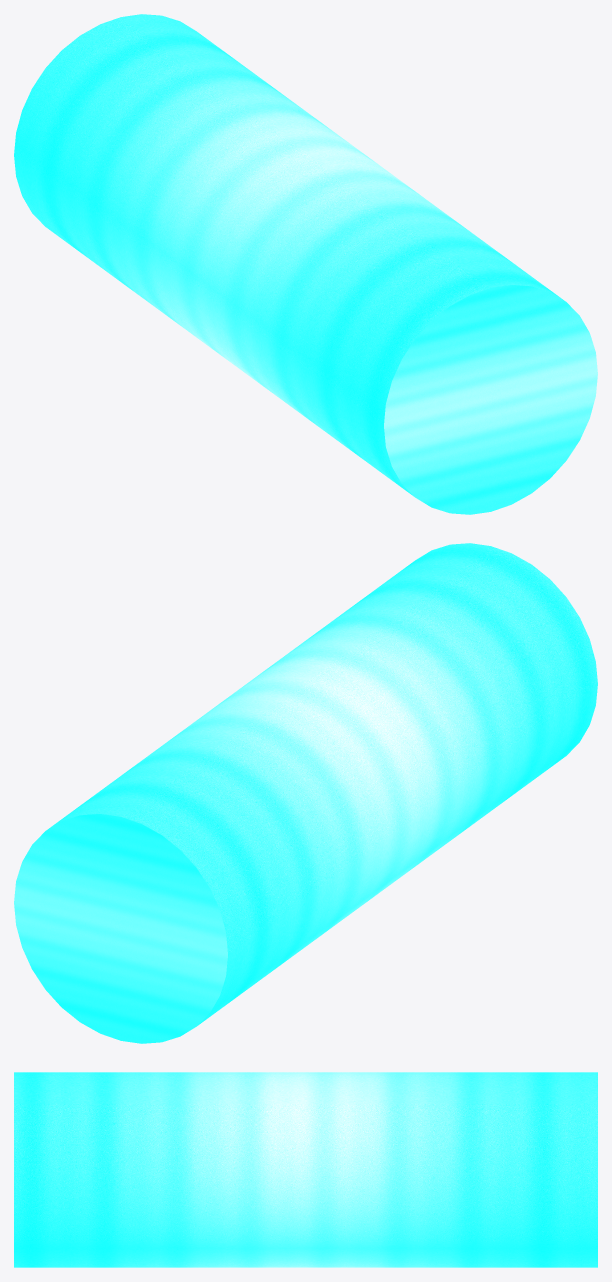
Rendered from cyan_laser_rod_1.glb.
3 renders of one model, top to bottom at view 1: azimuth 30°, elevation 25°; view 2: azimuth 150°, elevation 25°; view 3: azimuth 270°, elevation 25°, orthographic. The views are drawn at different scales.
Parts seen in each view (by area): view 1: CyanLaserRod_Root; view 2: CyanLaserRod_Root; view 3: CyanLaserRod_Root.
Boxes of the visible parts, x1=… form: CyanLaserRod_Root: x1=14, y1=14, x2=597, y2=514; CyanLaserRod_Root: x1=14, y1=543, x2=597, y2=1043; CyanLaserRod_Root: x1=14, y1=1072, x2=597, y2=1267.
Size of the model in its own units: 0.00796 by 0.00796 by 0.0238.
1 material, 1 textured.
